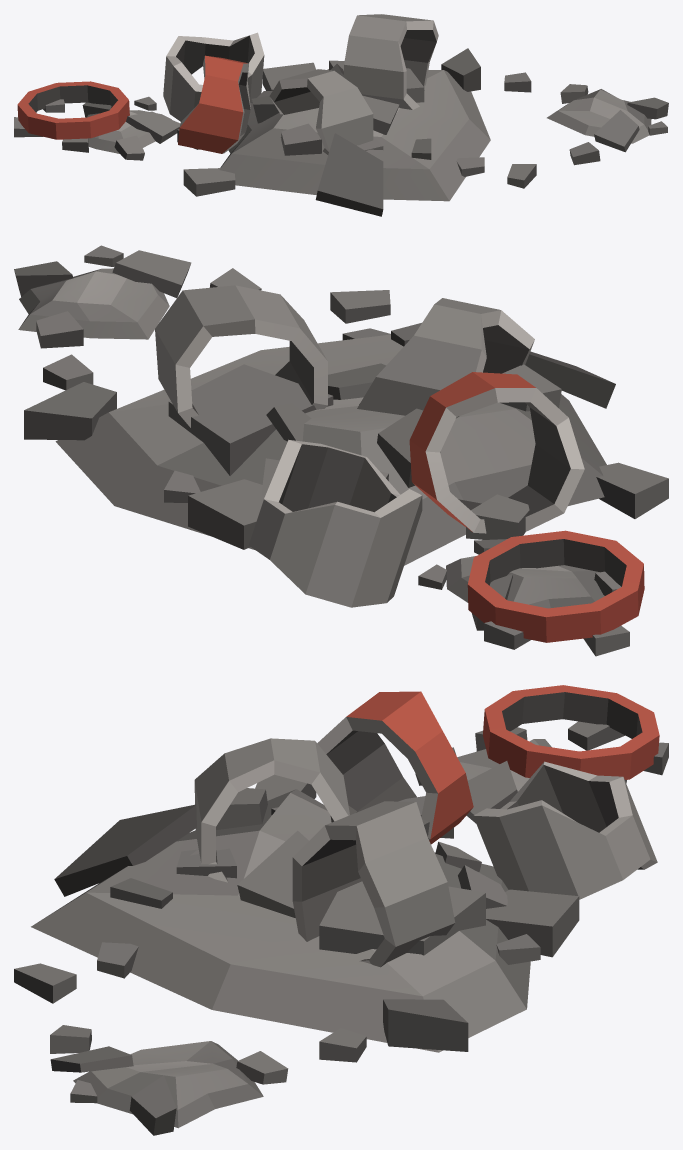
File: SA_Bld_CoolingTowerSmall_Rubble_01.gltf
The picture shows the model from 3 angles, top to bottom: view 1: azimuth 30°, elevation 25°; view 2: azimuth 150°, elevation 25°; view 3: azimuth 270°, elevation 25°; orthographic projection. The views are drawn at different scales.
Visible parts, largest first — view 1: SA_Bld_CoolingTowerSmall_Rubble_01; view 2: SA_Bld_CoolingTowerSmall_Rubble_01; view 3: SA_Bld_CoolingTowerSmall_Rubble_01.
Boxes of the visible parts, x1,y1,x2,y2 form: SA_Bld_CoolingTowerSmall_Rubble_01: (14,14,668,216); SA_Bld_CoolingTowerSmall_Rubble_01: (14,245,668,656); SA_Bld_CoolingTowerSmall_Rubble_01: (14,685,668,1135).
Bounding box in the file's own units: 31.95 × 6.64 × 21.76.
Materials: 1 (1 with a texture image).
